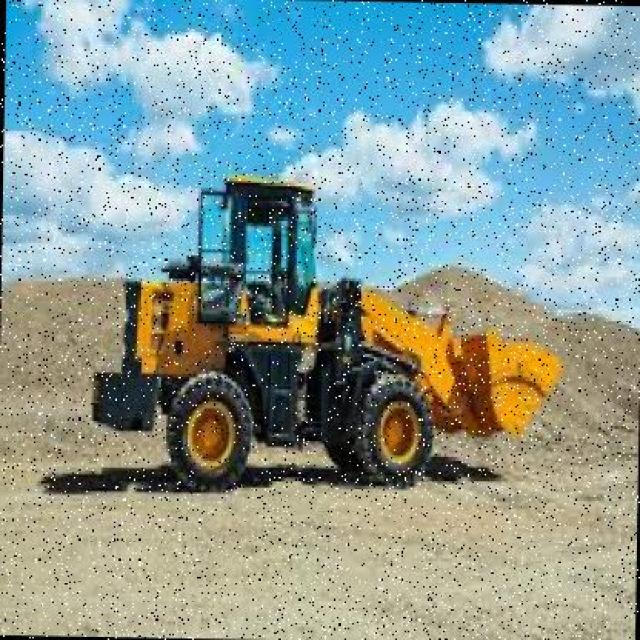buldozerpayloadergrader: (90, 170, 565, 479)
